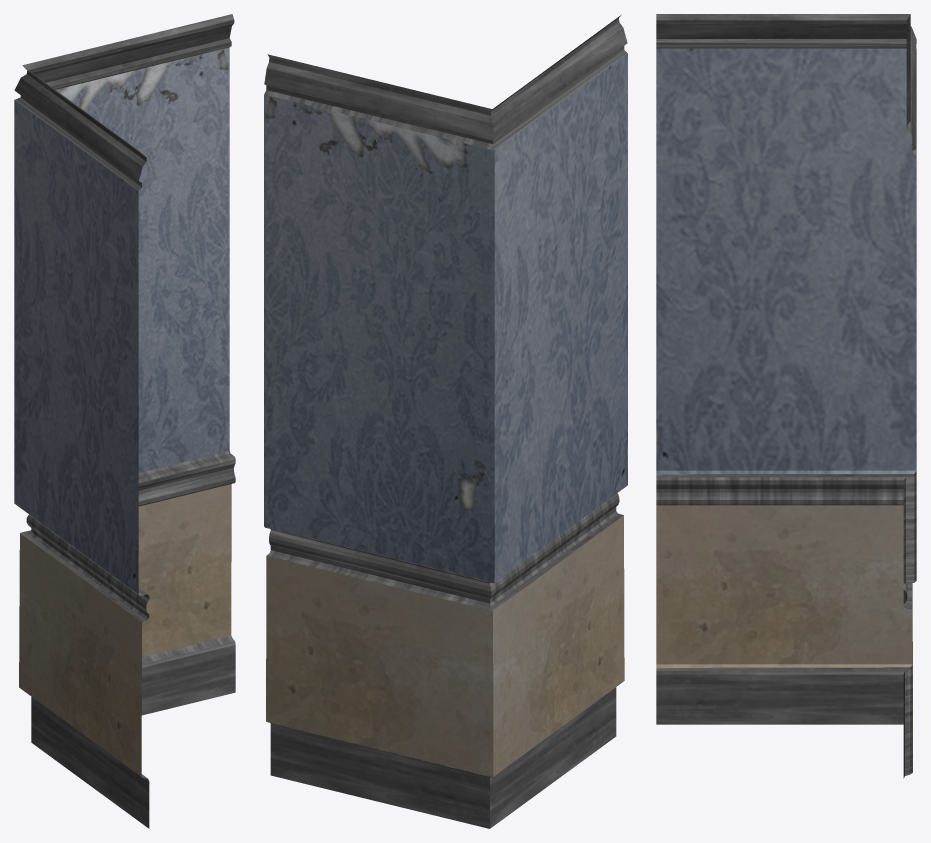
The model's file is Mod_Wall_Corner_B_1x3.fbx.
The picture shows the model from 3 angles, left to right: view 1: azimuth 30°, elevation 25°; view 2: azimuth 150°, elevation 25°; view 3: azimuth 270°, elevation 25°; orthographic projection. The views are drawn at different scales.
Visible parts, largest first — view 1: Mod_Wall_Corner_B_1x3; view 2: Mod_Wall_Corner_B_1x3; view 3: Mod_Wall_Corner_B_1x3.
Part boxes in pixels (x1,y1,x2,y2): Mod_Wall_Corner_B_1x3: (14, 14, 235, 828); Mod_Wall_Corner_B_1x3: (264, 14, 627, 828); Mod_Wall_Corner_B_1x3: (656, 14, 916, 778).
Size of the model in its own units: 100 by 300 by 100.
1 material, 1 textured.
